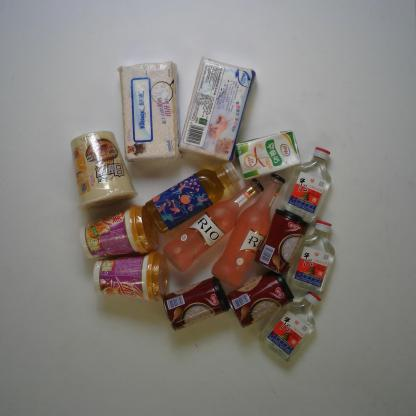Alcohol: (162, 174, 266, 274), (210, 171, 287, 290), (255, 289, 322, 364), (278, 145, 335, 225), (287, 216, 338, 296)
Canned Food: (224, 270, 297, 330), (161, 274, 233, 332), (253, 206, 310, 278)
Drink: (143, 159, 243, 236)
Instant Drink: (75, 203, 160, 262), (89, 249, 171, 304)
Instant Noodles: (66, 129, 140, 213)
Milk: (233, 126, 303, 183)
Tissue: (178, 54, 258, 165), (114, 59, 185, 163)
